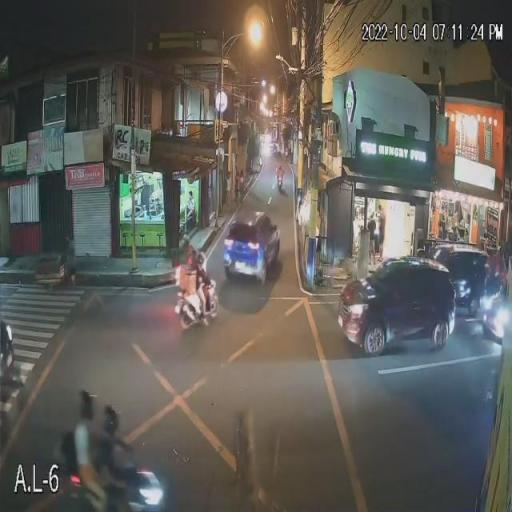helmet: (72, 386, 99, 418), (95, 404, 124, 432), (194, 250, 210, 266)
motorcycle: (53, 434, 176, 512), (172, 275, 229, 331)
rider: (88, 432, 144, 511), (73, 416, 109, 511), (189, 267, 215, 321)
